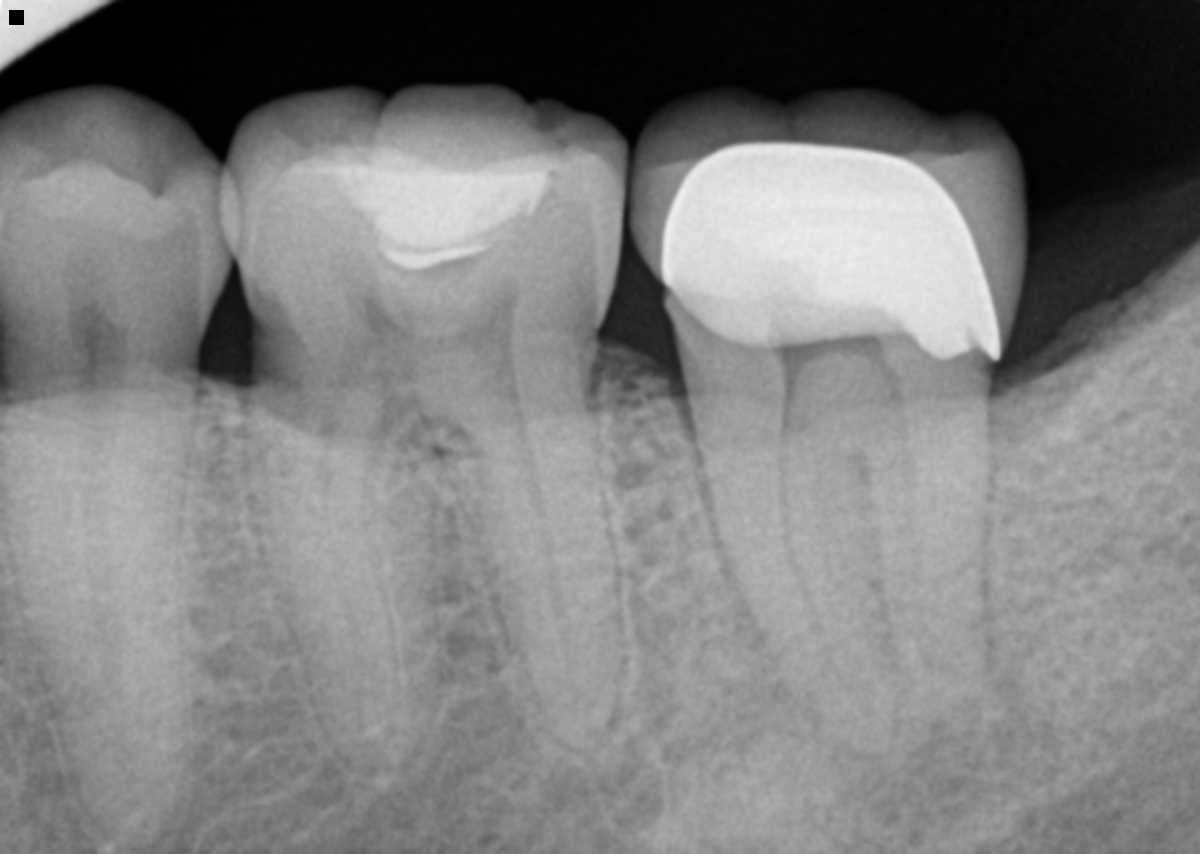Apical Lesion: (903, 659, 1056, 804)
Distal Canal: (512, 396, 588, 739), (903, 429, 923, 618)
Distal Root: (447, 368, 623, 748), (862, 393, 995, 691)
Main Canal: (84, 388, 144, 825)
Main Root: (0, 380, 199, 850)
Mesial Canal: (778, 420, 876, 721), (321, 411, 370, 750)
Mesial Root: (685, 396, 899, 751), (243, 388, 441, 771)
decay: (247, 288, 334, 433)
